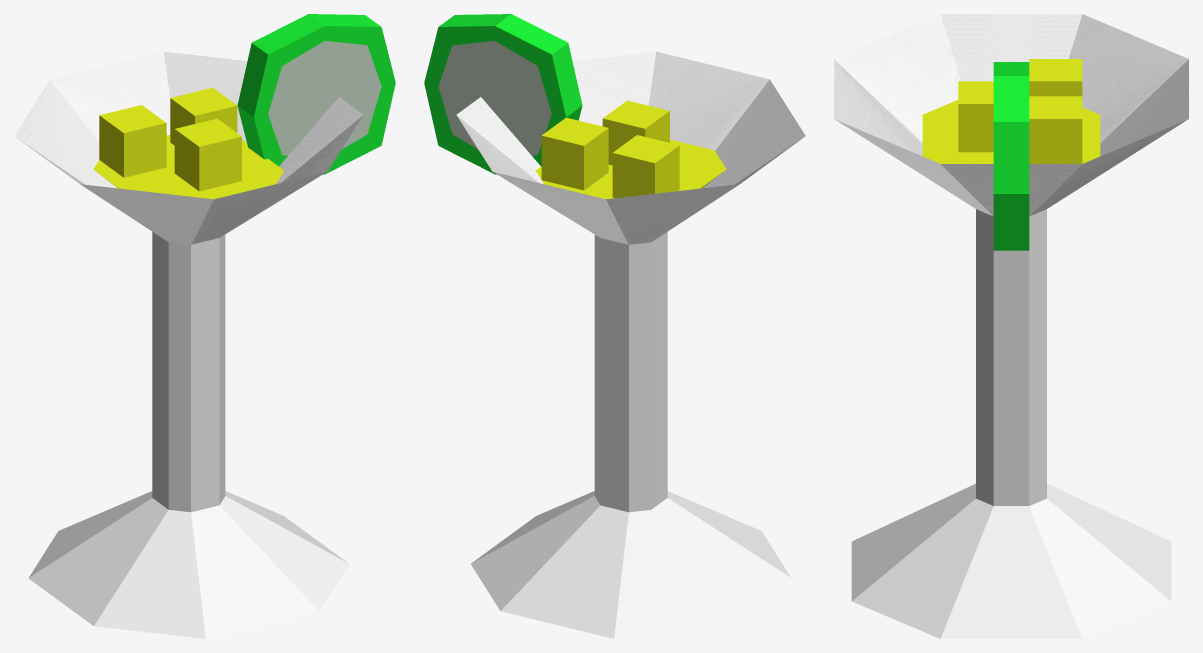
The model's file is inv_wizard_blizzard_2.obj.
3 renders of one model, left to right at view 1: azimuth 30°, elevation 25°; view 2: azimuth 150°, elevation 25°; view 3: azimuth 270°, elevation 25°, orthographic. The views are drawn at different scales.
Size of the model in its own units: 0.1875 by 0.2734 by 0.1562.
